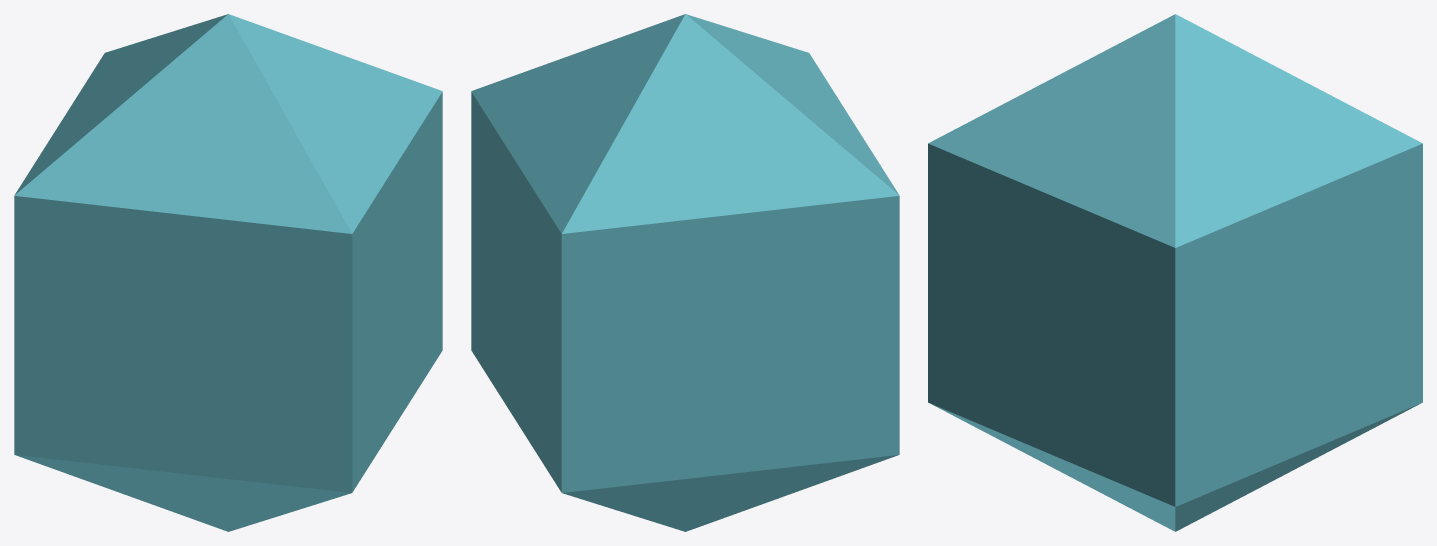
Rendered from Skeltal.gltf.
The picture shows the model from 3 angles, left to right: view 1: azimuth 30°, elevation 25°; view 2: azimuth 150°, elevation 25°; view 3: azimuth 270°, elevation 25°; orthographic projection.
Parts seen in each view (by area): view 1: Sphere; view 2: Sphere; view 3: Sphere.
Part boxes in pixels (x1=…): Sphere: x1=14, y1=14, x2=442, y2=531; Sphere: x1=471, y1=14, x2=899, y2=531; Sphere: x1=928, y1=14, x2=1422, y2=531.
Size of the model in its own units: 0.433 by 0.5 by 0.433.
1 material, 1 textured.
